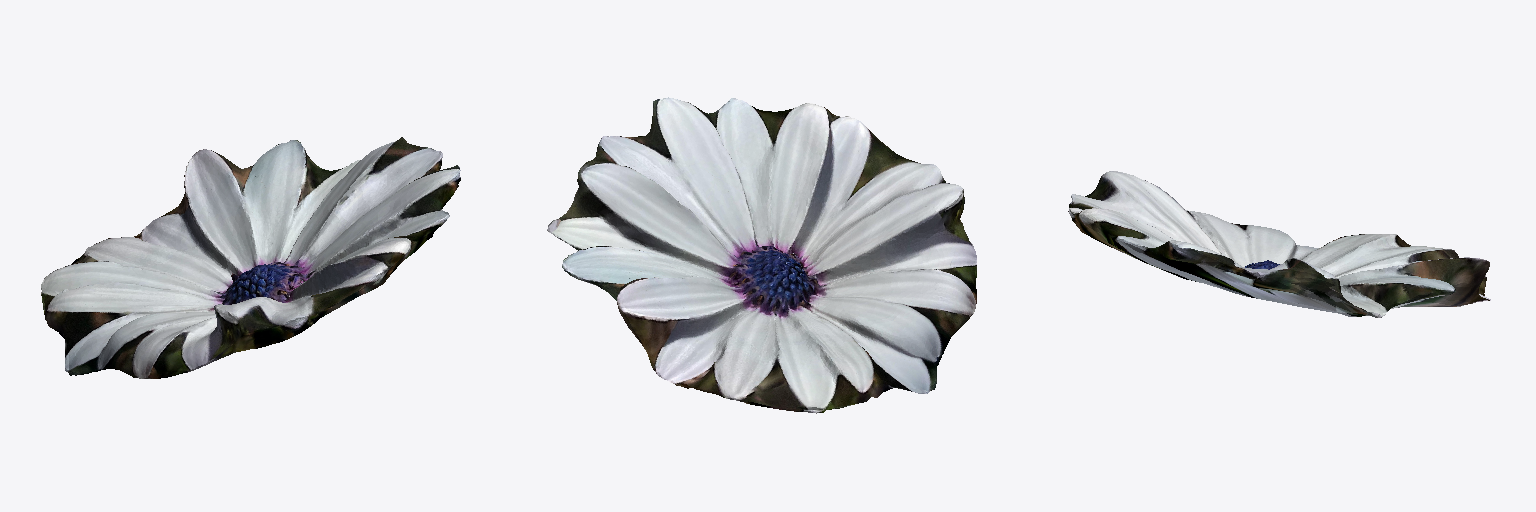
The picture shows the model from 3 angles: view 1: azimuth 30°, elevation 25°; view 2: azimuth 150°, elevation 25°; view 3: azimuth 270°, elevation 25°; orthographic projection.
Visible parts, largest first — view 1: Mesh_0; view 2: Mesh_0; view 3: Mesh_0.
Part boxes in pixels (left/top/right/bottom): Mesh_0: left=41, top=137, right=460, bottom=378; Mesh_0: left=547, top=97, right=976, bottom=413; Mesh_0: left=1068, top=171, right=1490, bottom=317.
Bounding box in the file's own units: 0.0421 × 0.0192 × 0.0437.
1 materials, 1 textured.